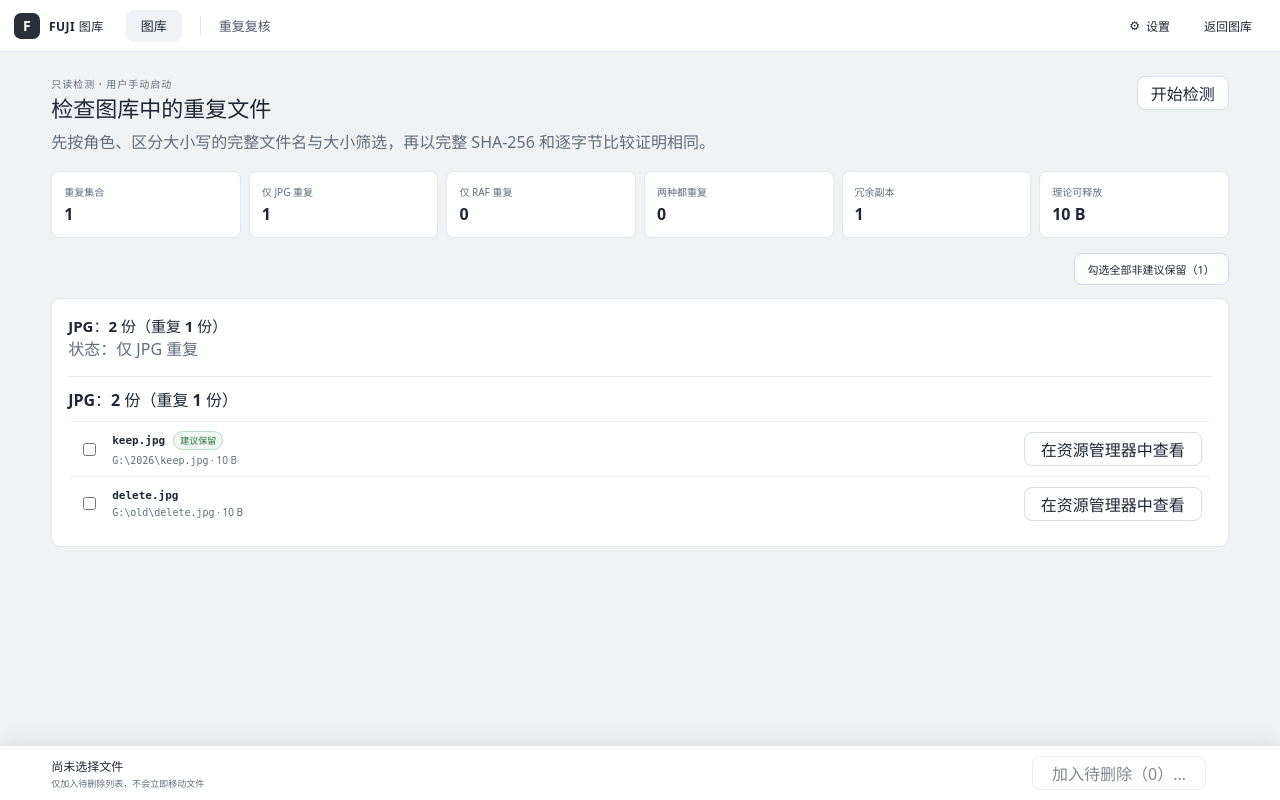
Scenario: DuplicateReviewView › allows overriding the suggestion but refuses selecting the last copy
What coordinates should you click on to do the following:
click the checkbox named "将 G:\\2026\\keep.jpg 标记为待删除"
I would click on:
 (90, 449)
Its box is x1=83 y1=442 x2=96 y2=456.
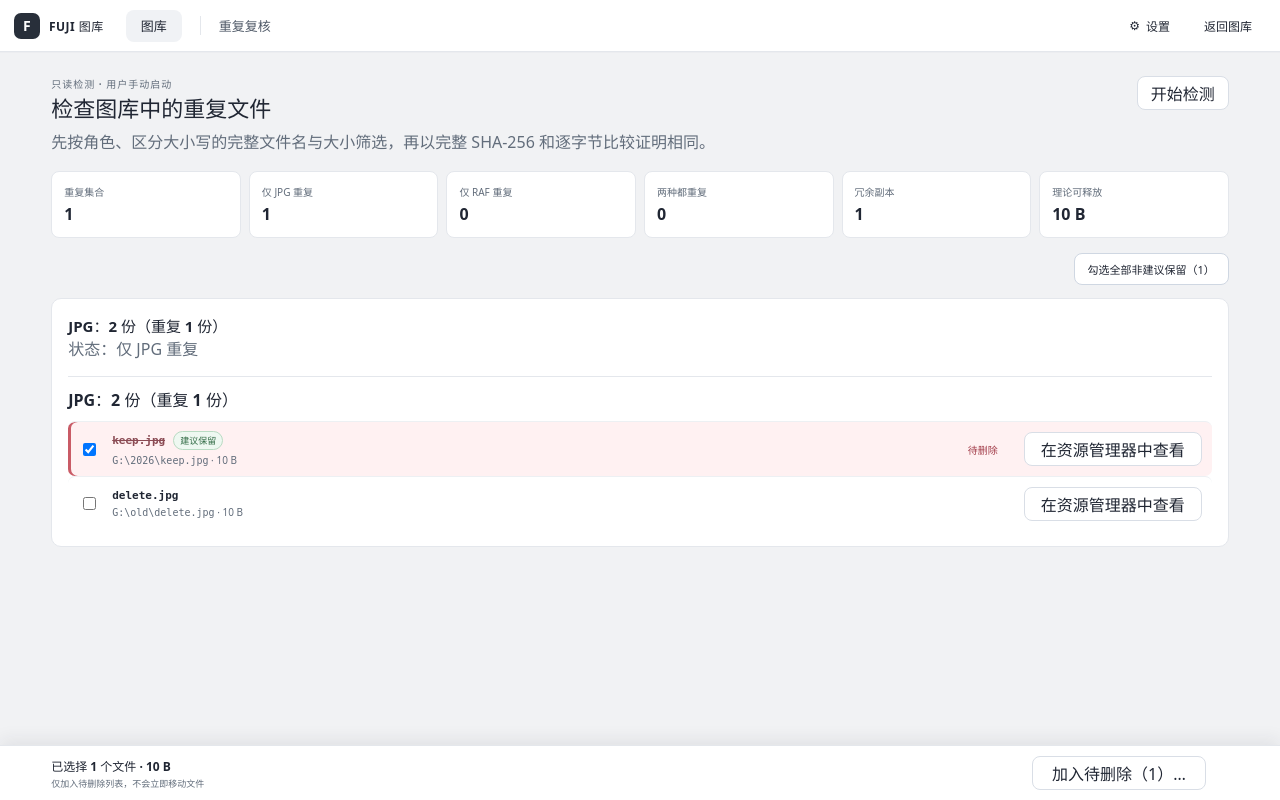
What coordinates should you click on to do the following:
click the checkbox named "将 G:\\old\\delete.jpg 标记为待删除"
I would click on:
 (90, 504)
Its box is x1=83 y1=497 x2=96 y2=510.
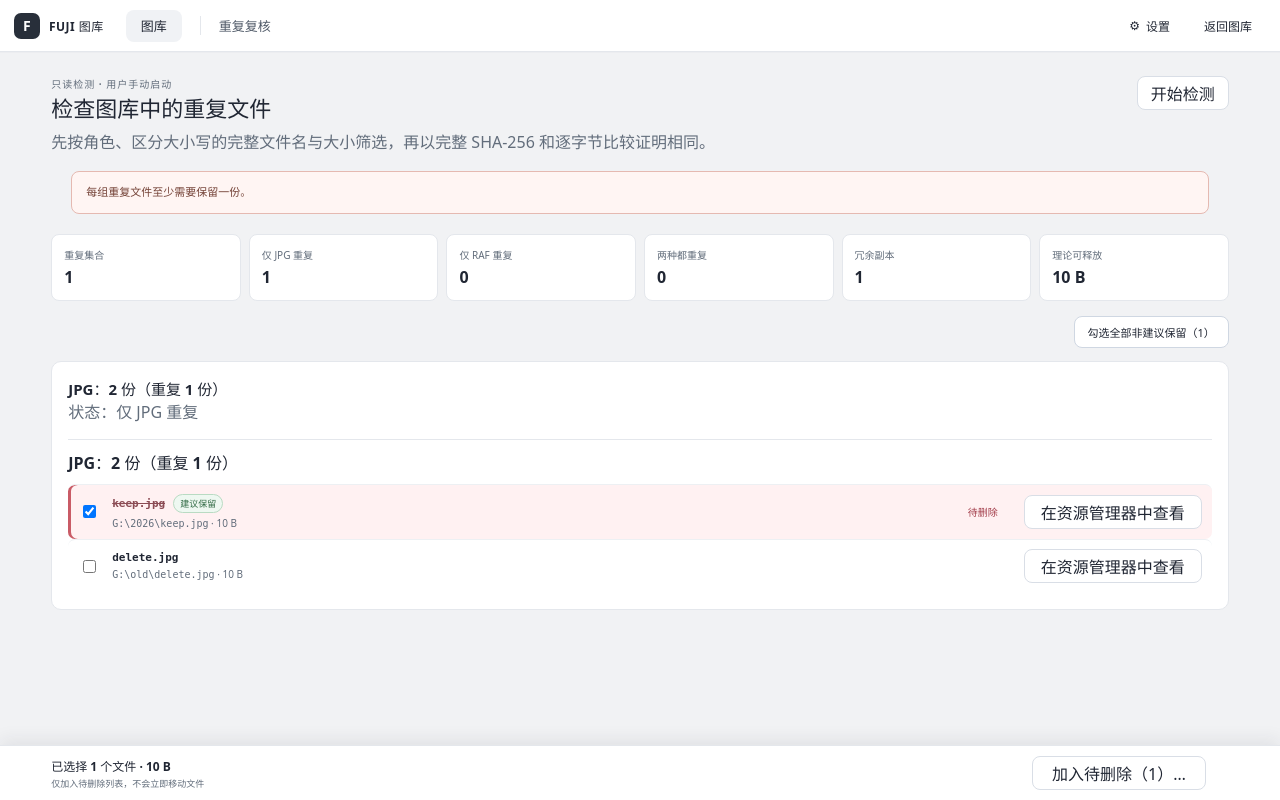
Expected: the checkbox named "将 G:\\old\\delete.jpg 标记为待删除" is not checked, x1=83 y1=560 x2=96 y2=572
Now the text "每组重复文件至少需要保留一份。" is shown, box x1=71 y1=171 x2=1209 y2=214
